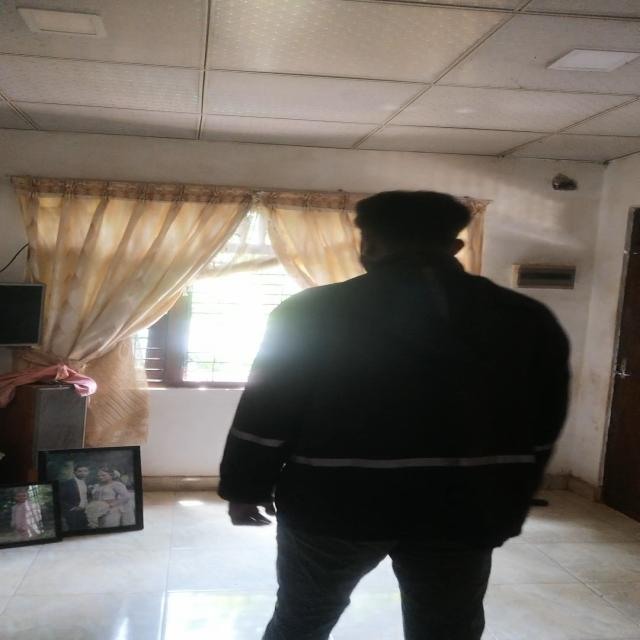Jacket_Wearer: (222, 258, 575, 558)
Person: (220, 187, 576, 640)
